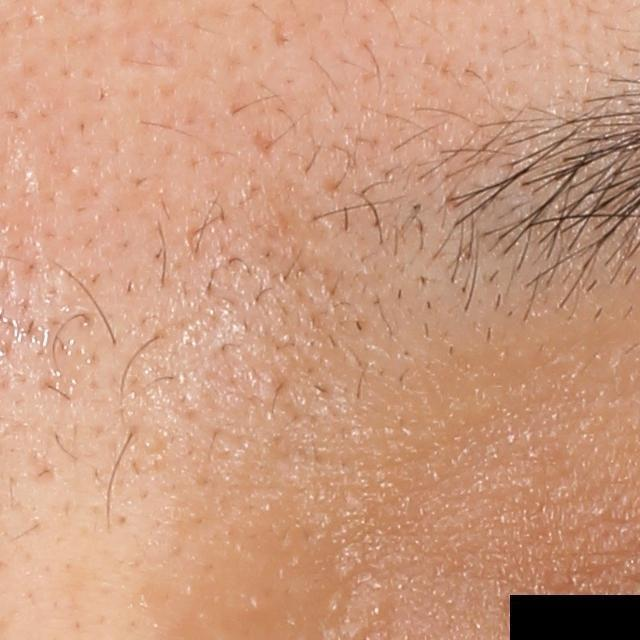atrophic_scar: (24, 443, 58, 486), (250, 129, 281, 164), (268, 10, 288, 54)
